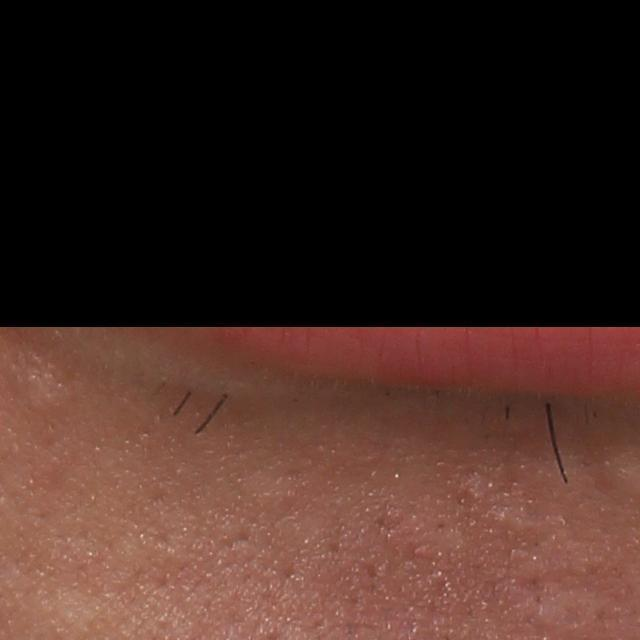hypertrophic_scar: (514, 579, 620, 633)
